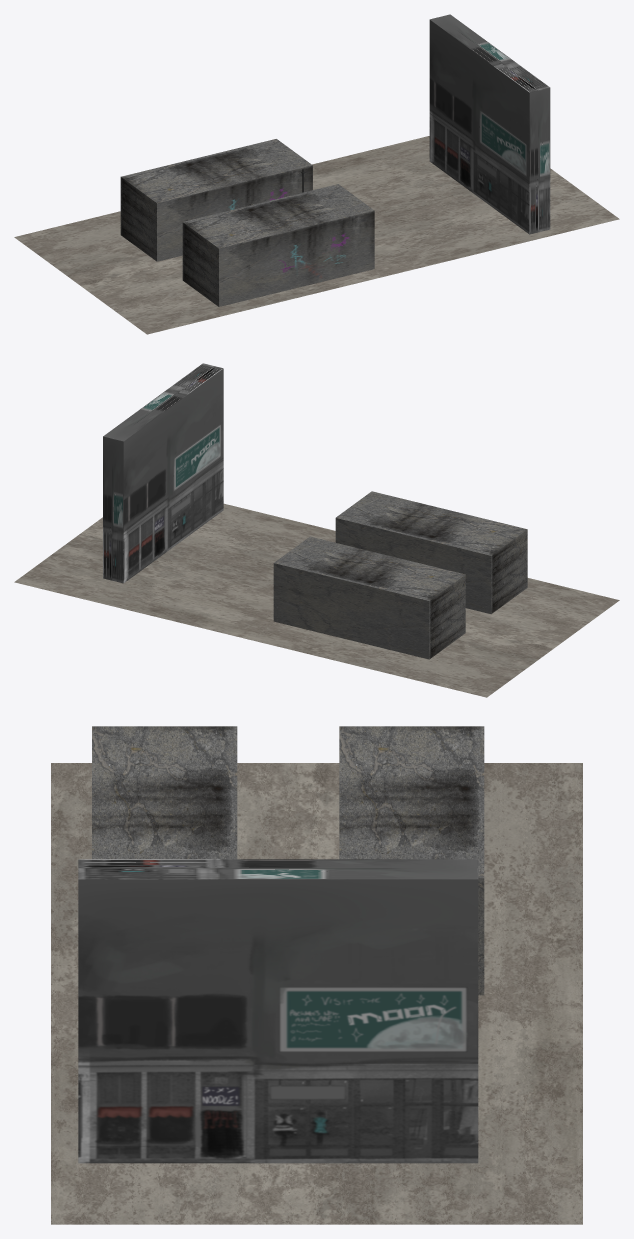
3 renders of one model, top to bottom at view 1: azimuth 30°, elevation 25°; view 2: azimuth 150°, elevation 25°; view 3: azimuth 270°, elevation 25°, orthographic. The views are drawn at different scales.
Visible parts, largest first — view 1: ground, backbuilding_low, right big building, left big building; view 2: ground, backbuilding_low, left big building, right big building; view 3: backbuilding_low, ground, left big building, right big building.
Part boxes in pixels (x1,y1,x2,y2): ground: (14, 136, 619, 334); backbuilding_low: (429, 14, 550, 234); right big building: (182, 184, 374, 306); left big building: (120, 139, 312, 261); ground: (14, 503, 619, 697); backbuilding_low: (103, 363, 223, 583); left big building: (273, 536, 465, 659); right big building: (335, 491, 527, 614); backbuilding_low: (78, 859, 478, 1163); ground: (51, 763, 582, 1224); left big building: (339, 726, 484, 995); right big building: (92, 726, 237, 859).
Bounding box in the file's own units: 39.84 × 11.43 × 19.42.
Materials: 8 (8 with a texture image).
